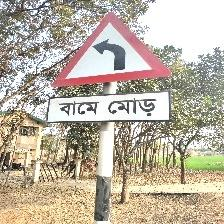Left-Turn: (48, 10, 175, 125)
